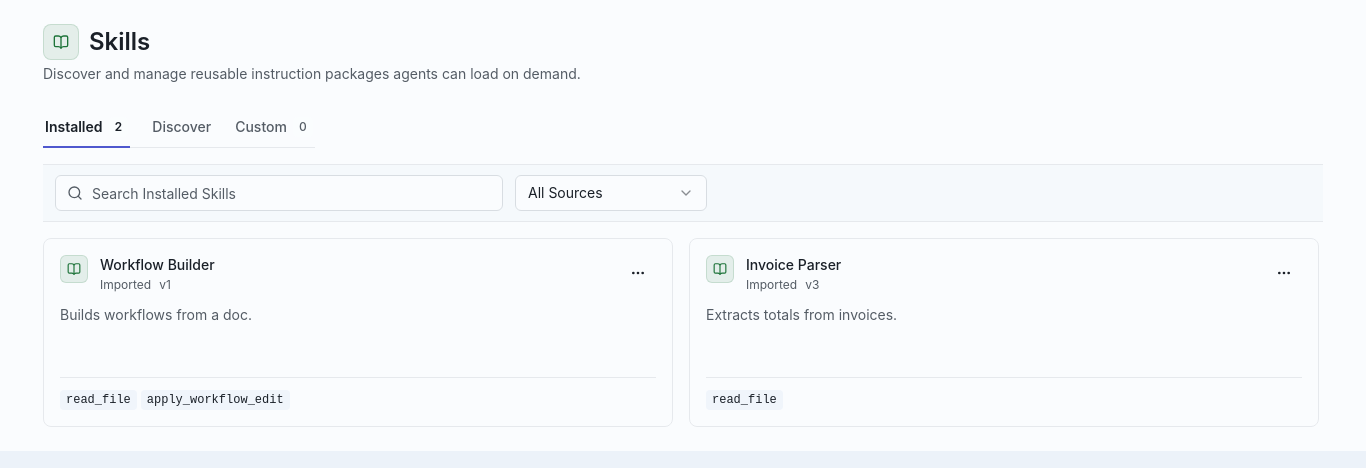
Test: SkillsPage › narrows by name when typing in the search box
Check: the link "Workflow Builder" is shown, box [100, 256, 215, 273]
Type "invoice" into the field with test id "skill-search" at (279, 193), box [55, 175, 503, 211]
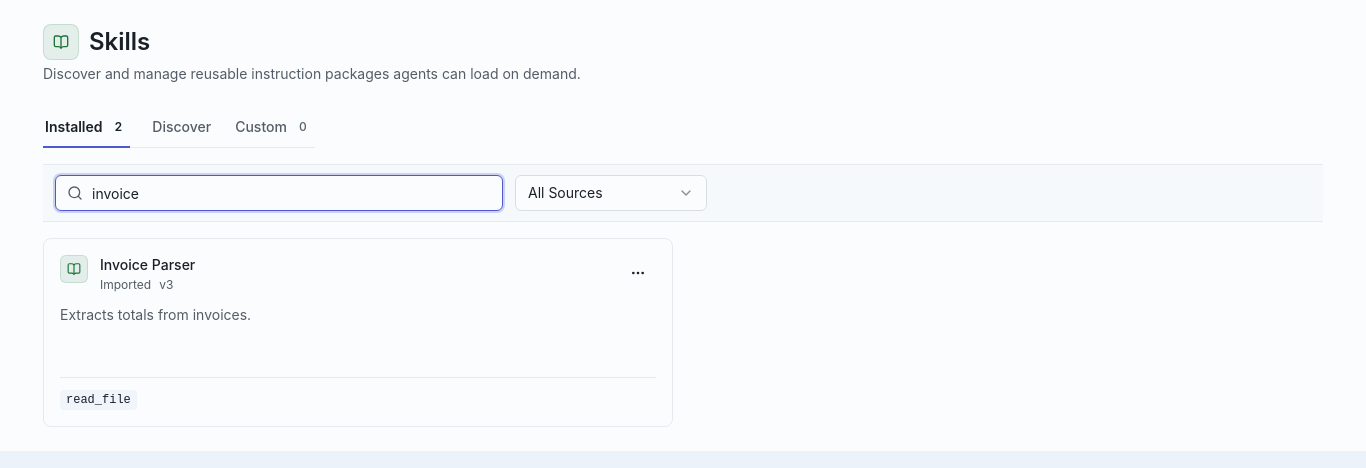
Check: the link "Invoice Parser" is shown, box [100, 256, 195, 273]
Check: the link "Workflow Builder" is gone
Check: the number of elements with test id "skill-card" is 1, box [43, 238, 673, 427]
